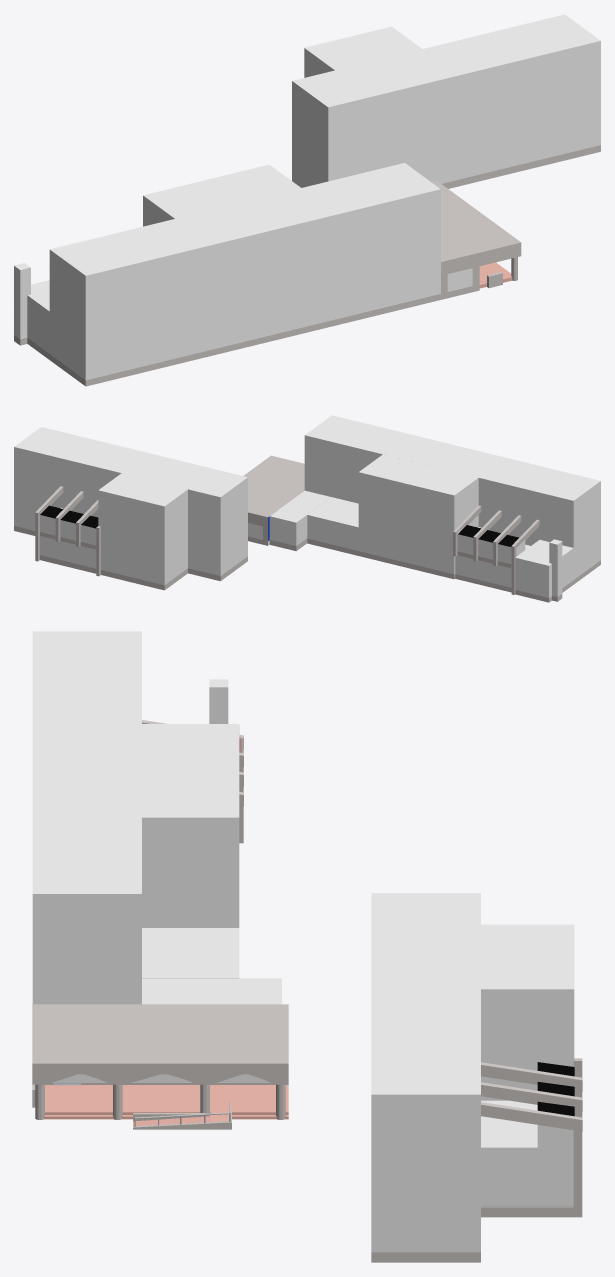
File: ryou.glb
The picture shows the model from 3 angles, top to bottom: view 1: azimuth 30°, elevation 25°; view 2: azimuth 150°, elevation 25°; view 3: azimuth 270°, elevation 25°; orthographic projection. The views are drawn at different scales.
Visible parts, largest first — view 1: 学生寮・男子, 学生寮・女子, 学生寮・男子・玄関口, 学生寮・男子・出っ張った部分, 学生寮・男子・なんか出口あるとこ, 学生寮・男子・なんか出口あるとこ・四角柱; view 2: 学生寮・女子, 学生寮・男子, 学生寮・男子・出っ張った部分, 学生寮・男子・玄関口, 学生寮・男子・謎部分・建物部分・土台, 学生寮・女子・謎部分・建物部分・土台, 学生寮・男子・通路近くの低い部分, 学生寮・男子・なんか出口あるとこ, 学生寮・男子・食堂行通路側, 学生寮・男子・なんか出口あるとこ・四角柱; view 3: 学生寮・女子, 学生寮・男子, 学生寮・男子・出っ張った部分, 学生寮・男子・玄関口, 学生寮・女子・謎部分・建物部分・土台, 学生寮・男子・玄関・階段, 学生寮・男子・通路近くの低い部分, 学生寮・男子・玄関・屋根・装飾, 学生寮・男子・食堂行通路側, 学生寮・女子・枠組み・土台.002, 学生寮・女子・謎部分・斜め枠組み, 学生寮・男子・玄関・円柱 (+3 smaller).
Part boxes in pixels (bbox=[...]): 学生寮・男子: bbox=[49, 163, 440, 386]; 学生寮・女子: bbox=[292, 14, 600, 188]; 学生寮・男子・玄関口: bbox=[431, 181, 519, 299]; 学生寮・男子・出っ張った部分: bbox=[143, 164, 300, 226]; 学生寮・男子・なんか出口あるとこ: bbox=[27, 280, 49, 359]; 学生寮・男子・なんか出口あるとこ・四角柱: bbox=[14, 263, 30, 345]; 学生寮・女子: bbox=[14, 427, 247, 590]; 学生寮・男子: bbox=[304, 415, 600, 584]; 学生寮・男子・出っ張った部分: bbox=[358, 454, 478, 579]; 学生寮・男子・玄関口: bbox=[245, 456, 304, 545]; 学生寮・男子・謎部分・建物部分・土台: bbox=[455, 525, 530, 592]; 学生寮・女子・謎部分・建物部分・土台: bbox=[40, 505, 98, 573]; 学生寮・男子・通路近くの低い部分: bbox=[307, 497, 358, 555]; 学生寮・男子・なんか出口あるとこ: bbox=[515, 539, 573, 602]; 学生寮・男子・食堂行通路側: bbox=[269, 490, 330, 551]; 学生寮・男子・なんか出口あるとこ・四角柱: bbox=[549, 539, 562, 601]; 学生寮・女子: bbox=[371, 893, 574, 1262]; 学生寮・男子: bbox=[32, 631, 141, 1004]; 学生寮・男子・出っ張った部分: bbox=[142, 724, 239, 927]; 学生寮・男子・玄関口: bbox=[32, 1004, 288, 1084]; 学生寮・女子・謎部分・建物部分・土台: bbox=[481, 1062, 574, 1207]; 学生寮・男子・玄関・階段: bbox=[44, 1085, 288, 1119]; 学生寮・男子・通路近くの低い部分: bbox=[142, 928, 239, 978]; 学生寮・男子・玄関・屋根・装飾: bbox=[32, 1062, 288, 1084]; 学生寮・男子・食堂行通路側: bbox=[142, 978, 281, 1004]; 学生寮・女子・枠組み・土台.002: bbox=[481, 1120, 582, 1217]; 学生寮・女子・謎部分・斜め枠組み: bbox=[481, 1102, 582, 1131]; 学生寮・男子・玄関・円柱: bbox=[35, 1084, 285, 1119].
Size of the model in its own units: 15.77 by 2.64 by 7.82.
1 material, 1 textured.
